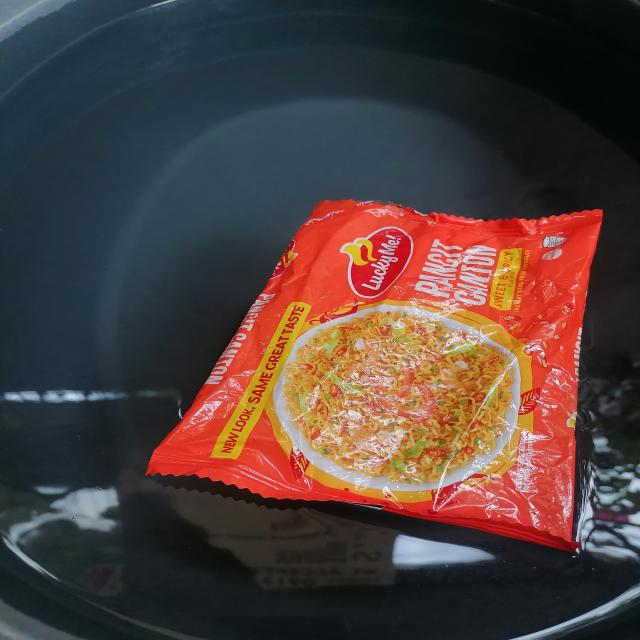Plastic Wrapper: (147, 200, 602, 550)
